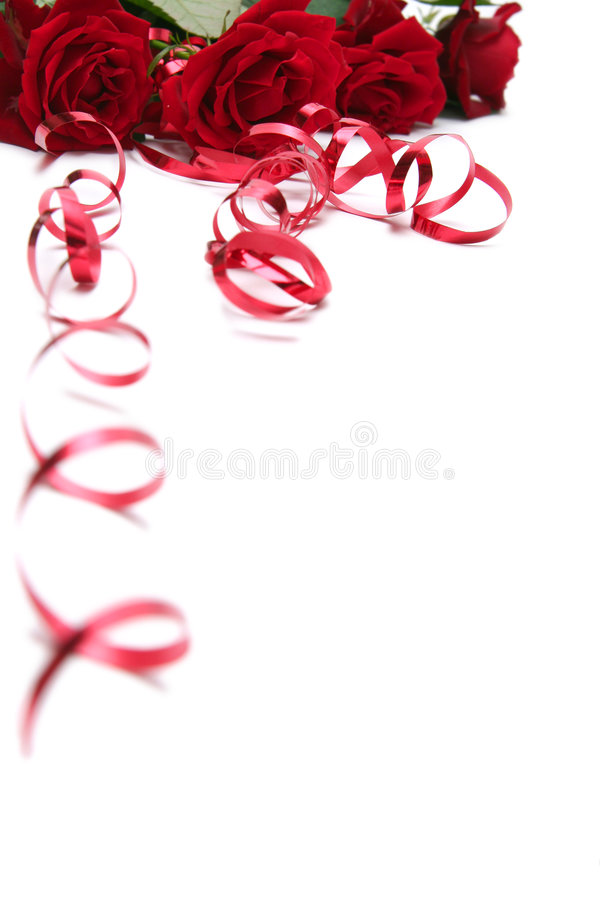RedRose: (178, 12, 354, 177), (4, 9, 165, 160)
